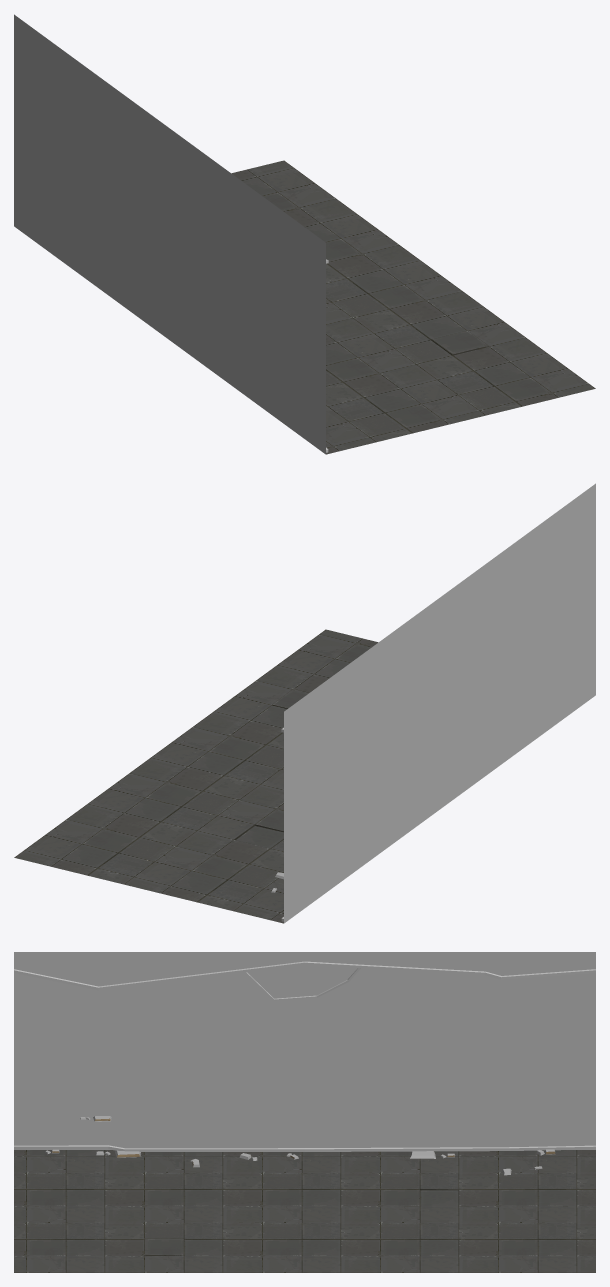
The model's file is bz_room_02.fbx.
3 views of the same model, one above another, from view 1: azimuth 30°, elevation 25°; view 2: azimuth 150°, elevation 25°; view 3: azimuth 270°, elevation 25° (orthographic). The views are drawn at different scales.
Visible parts, largest first — view 1: bz_room_02; view 2: bz_room_02; view 3: bz_room_02.
Part boxes in pixels (x1,y1,x2,y2): bz_room_02: (14,14,595,454); bz_room_02: (14,483,595,923); bz_room_02: (14,952,595,1272).
Bounding box in the file's own units: 4 × 3.02 × 8.
